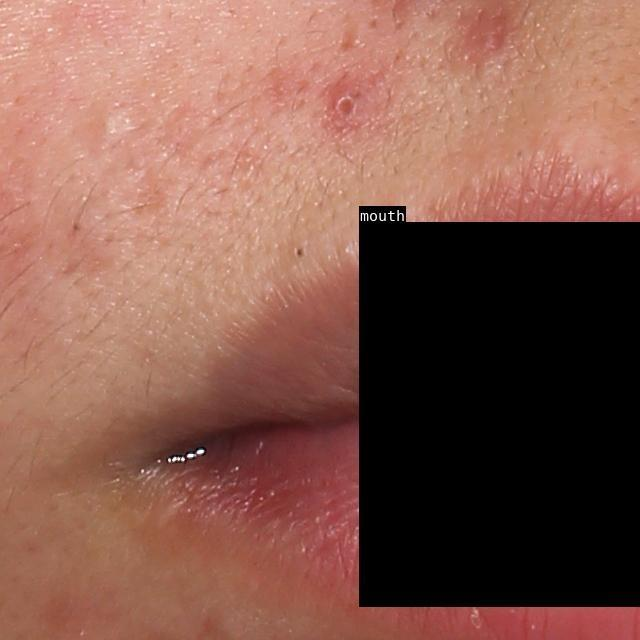comedo: (94, 105, 126, 148), (290, 243, 310, 261)
papule: (325, 82, 362, 130)
